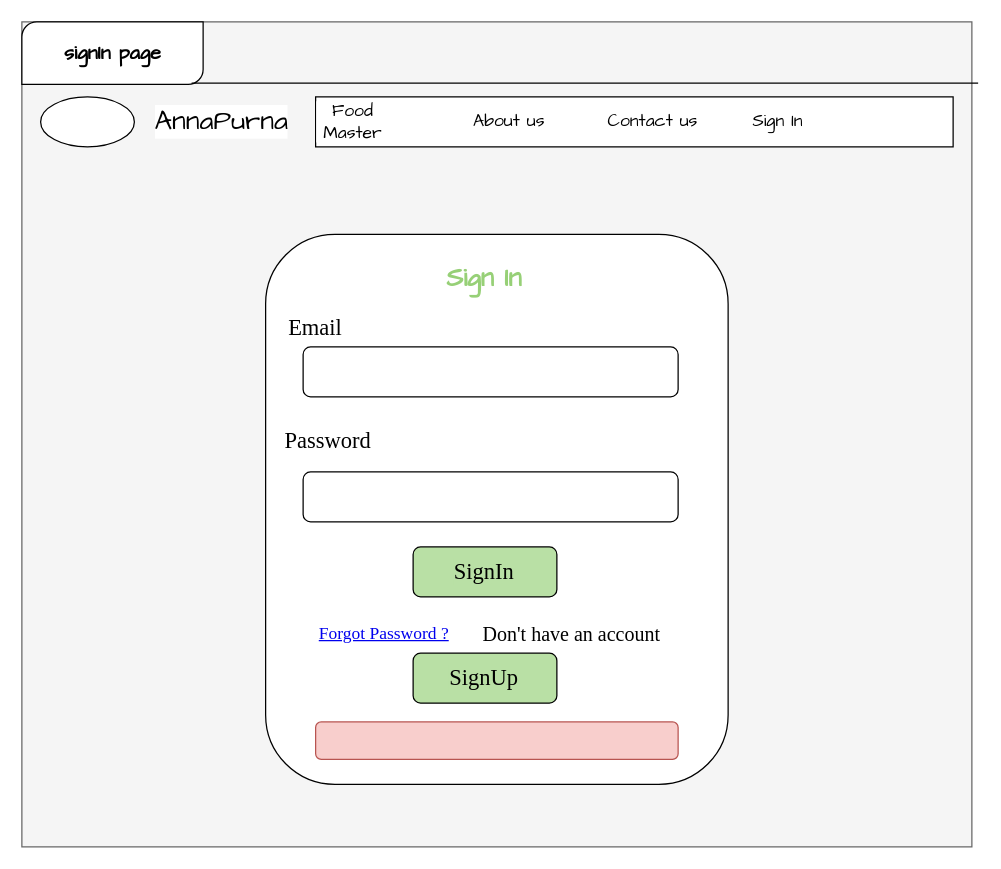
The diagram is 1001 pixels wide and 869 high, and some of its shapes have lost their labels. Here are the shapes that lost their labels. From the top down, the centre of each, then its label:
At [86,121]: "logo".
At [496,740]: "Invalid Email or Password".
